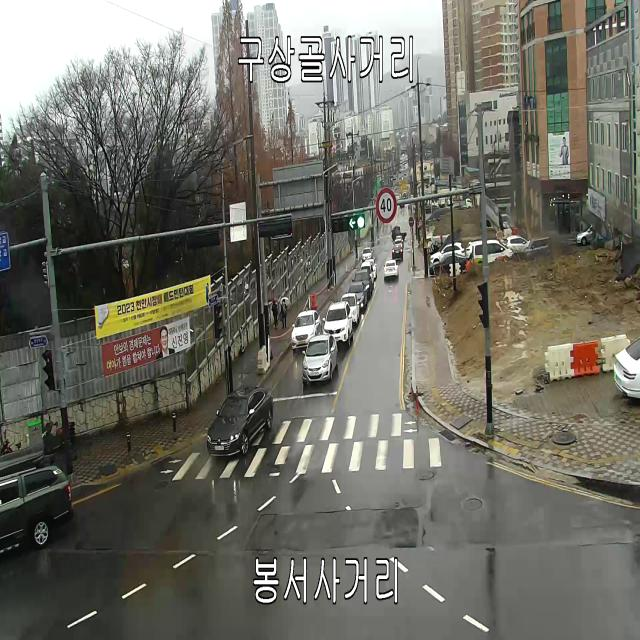Car: (0, 444, 73, 560), (207, 385, 274, 457), (302, 335, 339, 386), (613, 336, 640, 399), (322, 302, 353, 346), (291, 308, 322, 352), (472, 240, 514, 263), (429, 253, 467, 276), (430, 243, 466, 265), (340, 294, 360, 326), (576, 223, 603, 245), (346, 282, 367, 309), (524, 235, 552, 255), (352, 269, 372, 296), (504, 235, 529, 251), (426, 208, 450, 223), (466, 240, 482, 259), (361, 262, 374, 283), (391, 225, 407, 241), (384, 260, 398, 278), (365, 259, 377, 279), (454, 198, 472, 208), (362, 247, 372, 263), (427, 200, 439, 208), (393, 239, 403, 248), (437, 197, 445, 207), (396, 236, 403, 246), (425, 205, 431, 212), (448, 197, 453, 205)
Truck: (392, 245, 403, 260)
